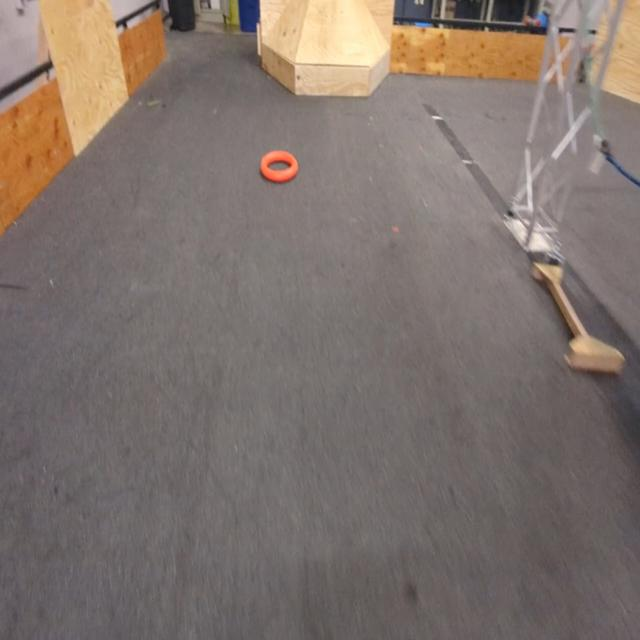note: (260, 150, 300, 183)
